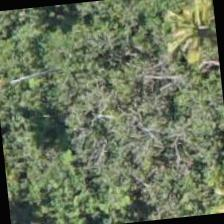Kelapa_Sawit: (153, 0, 220, 69)
